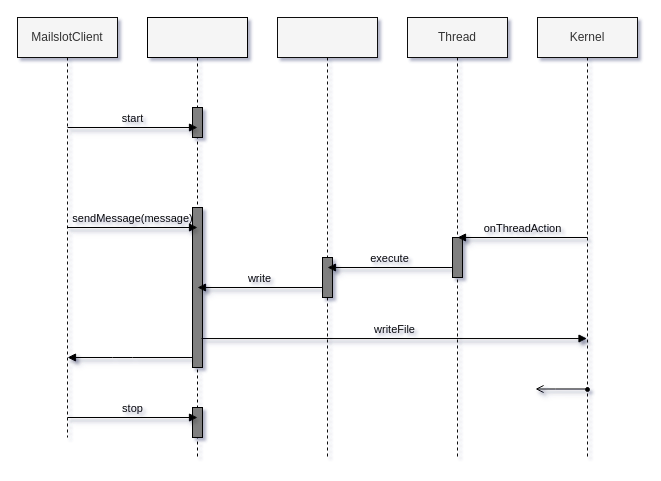
The diagram is 661 pixels wide and 481 high, and some of its shapes have lost their labels. The centre of each missing label's shape, as x and y in pixels:
syncronicWritter: the point at 197,237
writeAction: the point at 327,237
